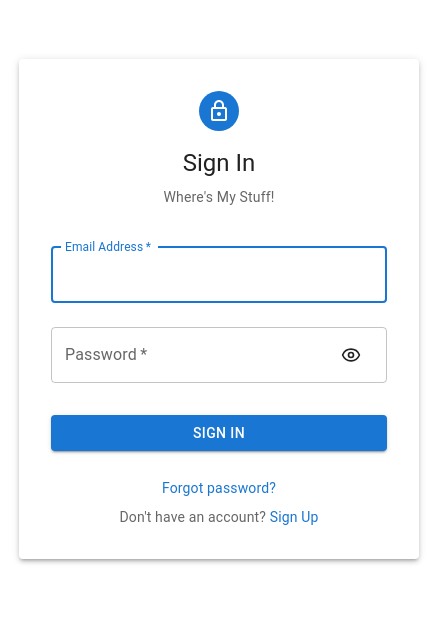
Test: Preservation Property Tests: Authentication Flow Behavior › should display error message for UserNotFoundException
Type "nonexistent@example.com" into the field labelled "Email Address *" at (219, 275), box [51,247,387,303]
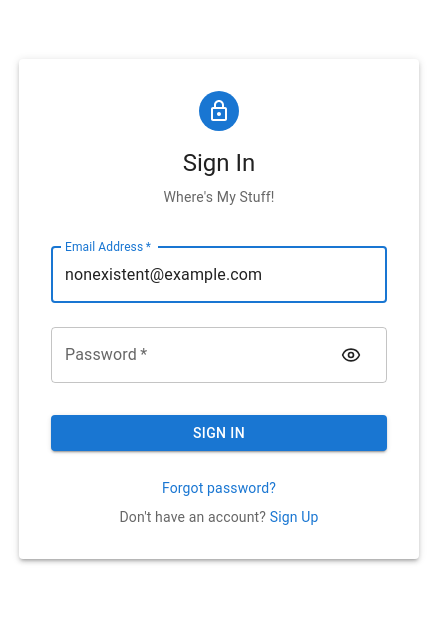
Type "ValidPassword123!" into the password field labelled "Password *" at (190, 355), box [51,327,329,383]
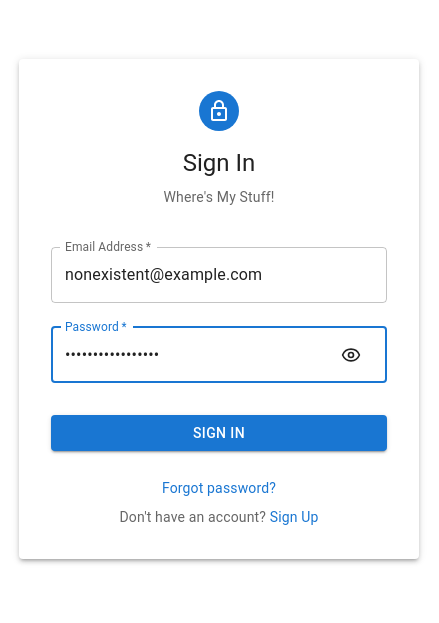
// Submit form
Click the button "Sign In" at (219, 433), box [51,415,387,452]
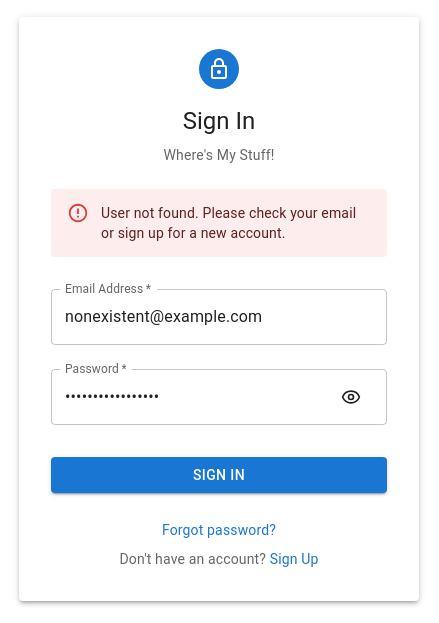
Result: the message shows "User not found" at [101,205,356,241]
